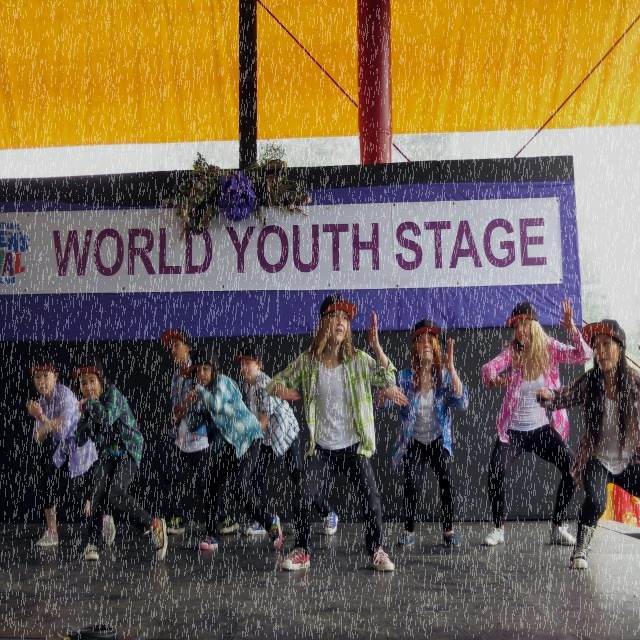pessoa: (262, 288, 400, 577), (475, 290, 595, 550), (534, 316, 640, 579), (370, 316, 470, 554), (182, 344, 288, 554), (229, 340, 340, 540), (72, 352, 169, 562), (24, 350, 120, 552), (160, 326, 240, 536)
